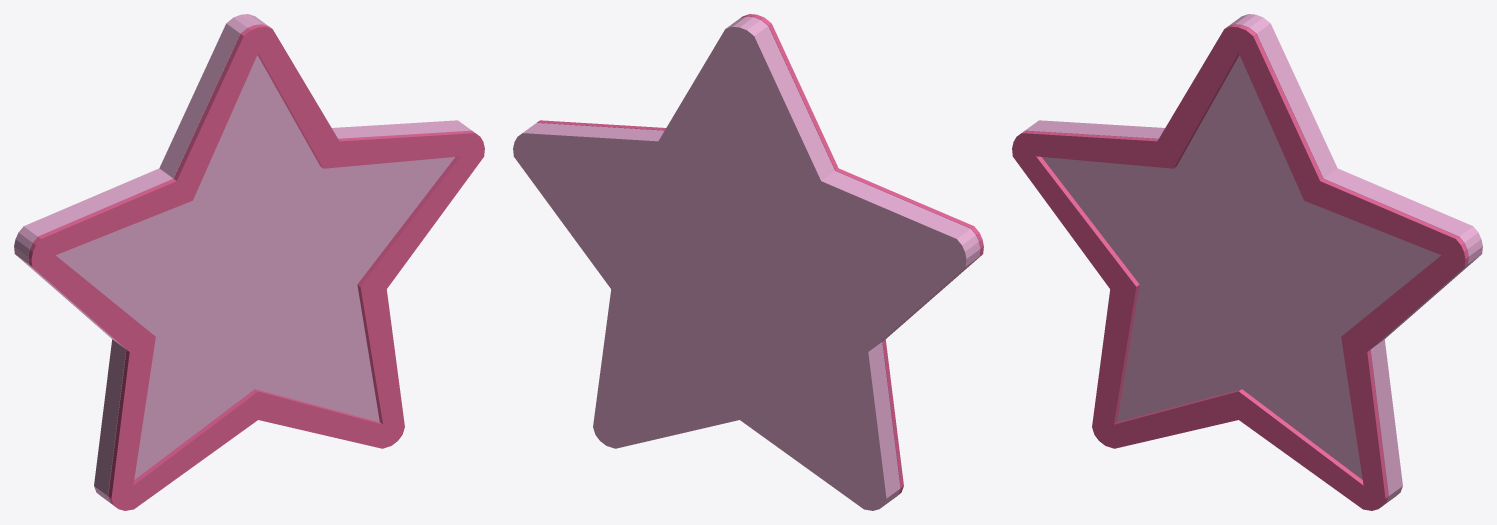
The model's file is LED_star.fbx.
3 renders of one model, left to right at view 1: azimuth 30°, elevation 25°; view 2: azimuth 150°, elevation 25°; view 3: azimuth 330°, elevation 25°, orthographic.
Parts seen in each view (by area): view 1: star, star.001; view 2: star, star.001; view 3: star, star.001.
Part boxes in pixels (x1=…): star: x1=14, y1=14, x2=471, y2=505; star.001: x1=28, y1=24, x2=484, y2=510; star: x1=513, y1=16, x2=980, y2=510; star.001: x1=537, y1=14, x2=983, y2=496; star: x1=1025, y1=14, x2=1482, y2=505; star.001: x1=1012, y1=24, x2=1468, y2=510.
Size of the model in its own units: 242 by 231 by 16.19.
